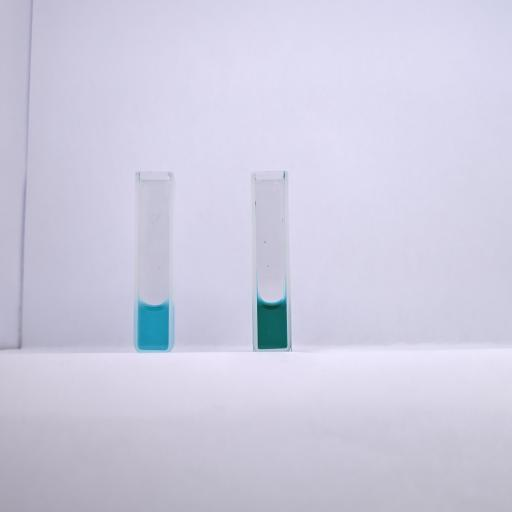cuvette: (248, 169, 294, 354), (132, 168, 176, 353)
liquid: (139, 302, 168, 350), (257, 302, 287, 348)
